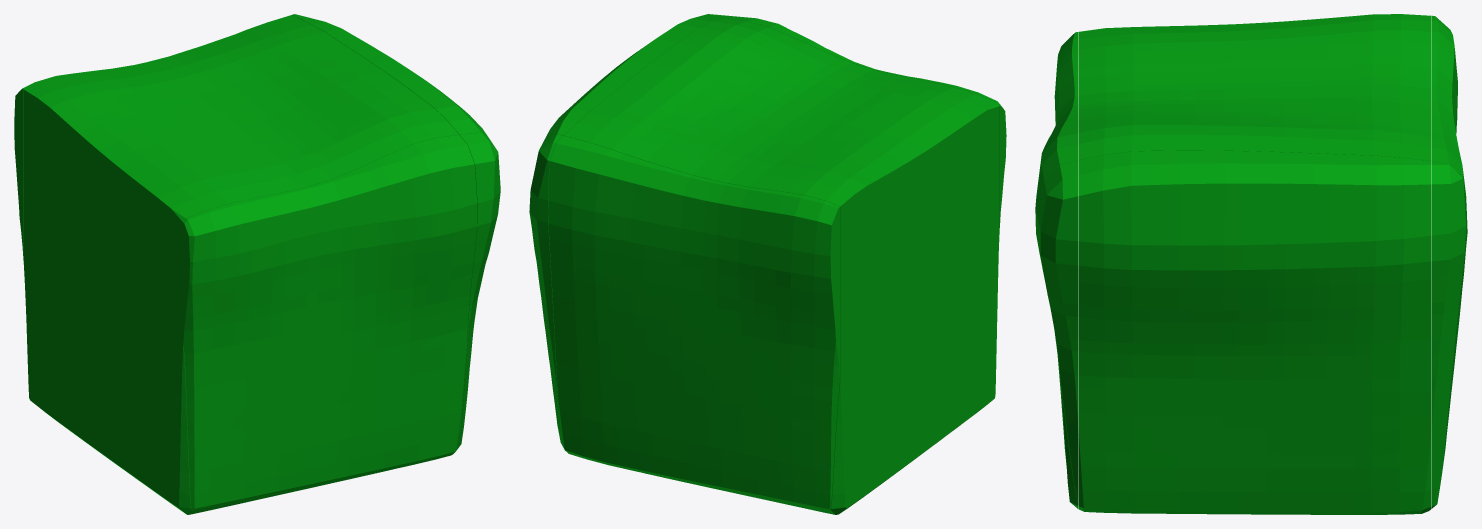
Rendered from 4by10beveledsubdivided.021.fbx.
3 views of the same model, side by side, from view 1: azimuth 30°, elevation 25°; view 2: azimuth 150°, elevation 25°; view 3: azimuth 270°, elevation 25° (orthographic). The views are drawn at different scales.
Visible parts, largest first — view 1: 4by10beveledsubdivided.021; view 2: 4by10beveledsubdivided.021; view 3: 4by10beveledsubdivided.021.
Boxes of the visible parts, x1,y1,x2,y2 form: 4by10beveledsubdivided.021: [14, 14, 500, 514]; 4by10beveledsubdivided.021: [529, 14, 1006, 514]; 4by10beveledsubdivided.021: [1035, 14, 1467, 514].
Bounding box in the file's own units: 231 × 228 × 245.
